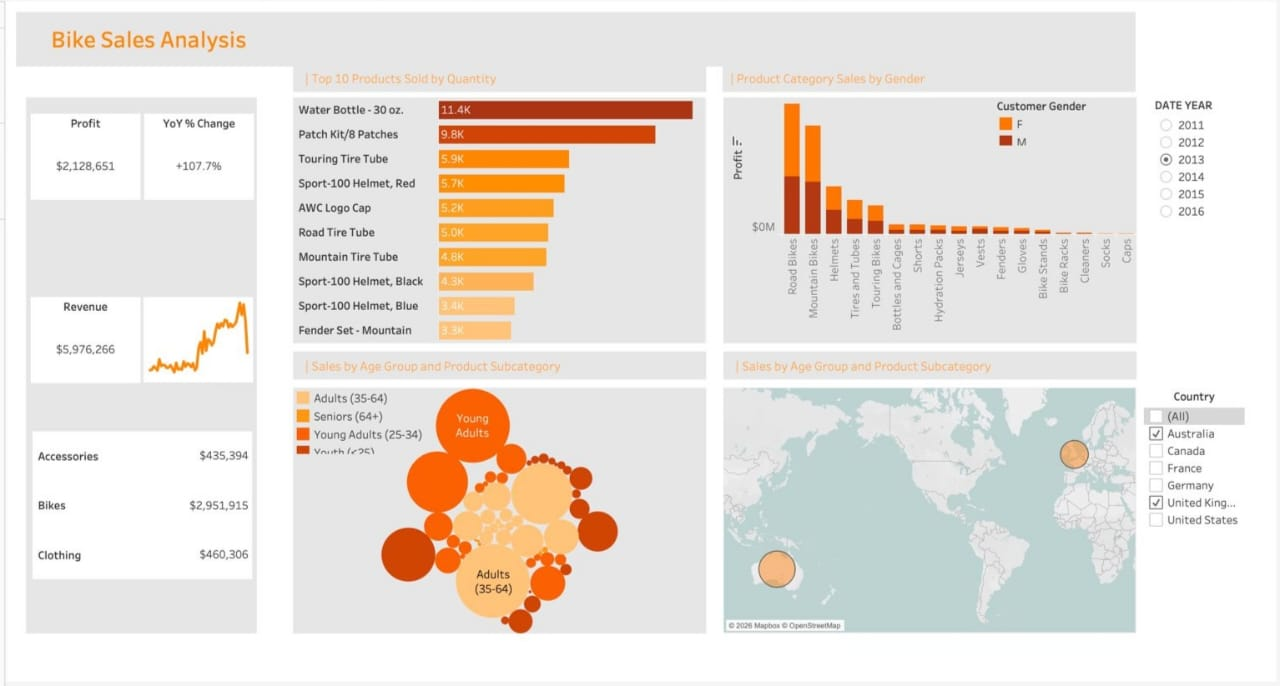

This screenshot's page, from the dashboard's own definition file:
{"tool":"tableau","page":{"name":"Sales Dashboard","canvas":[1400,750],"ordinal":0},"visuals":[{"type":"title","box":[8,8,1241,68]},{"type":"text","box":[317.3,68.7,455.3,31.6]},{"type":"text","box":[789.6,68.7,455.3,31.6]},{"type":"worksheet","title":"Top 10 Products","mark":"Bar","rows":["Product"],"box":[317.3,105.7,455.3,271.1]},{"type":"worksheet","title":"Sub Category Bar Chart ","mark":"Automatic","rows":["Profit"],"cols":["Sub_Category"],"box":[790.6,105.7,455.3,271.1]},{"type":"parameter","param":"[Parameters].[Parameter 1]","box":[1266,105.7,120.9,190.7]},{"type":"legend","title":"Sub Category Bar Chart ","param":"[federated.1uhaebu05e61gt1ad8c5h1yjvo3l].[none:Customer_Gender:nk]","box":[1091.8,106.6,140,52.4]},{"type":"worksheet","title":"Profit Card","mark":"Automatic","cols":["Calculation_0452956817235969"],"box":[28.2,123.8,120.9,94.9]},{"type":"worksheet","title":"YoY %change","mark":"Automatic","cols":["Calculation_0452956822155273"],"box":[153.1,123.8,120.9,94.9]},{"type":"worksheet","title":"Revenue Card","mark":"Automatic","cols":["Calculation_0452956823531530"],"box":[28.2,326.2,120.9,94.9]},{"type":"worksheet","title":"Revenue Line Chart","mark":"Automatic","rows":["Revenue"],"cols":["Date"],"box":[152.1,326.2,120.9,94.9]},{"type":"text","box":[317.3,385.8,455.3,31.6]},{"type":"text","box":[790.6,385.8,455.3,31.6]},{"type":"worksheet","title":"Age Group Bubble Chart","mark":"Circle","box":[317.3,425.6,455.3,271.1]},{"type":"worksheet","title":"Map","mark":"Automatic","box":[790.6,425.6,455.3,271.1]},{"type":"legend","title":"Age Group Bubble Chart","param":"[federated.1uhaebu05e61gt1ad8c5h1yjvo3l].[none:Age_Group:nk]","box":[318.3,426.5,168.2,72.3]},{"type":"filter","title":"Age Group Bubble Chart","param":"[federated.1uhaebu05e61gt1ad8c5h1yjvo3l].[none:Country:nk]","box":[1254,426.5,110.8,164.5]},{"type":"worksheet","title":"Cost Card","mark":"Automatic","rows":["Product_Category"],"box":[30.2,474.4,241.7,162.7]}]}

Visuals, with their boxes in screenshot pixels (x1, y1, x2, y2), scaled from the page's 1400x750 canvas onto the 1280x686 screenshot:
title: detection(7, 7, 1142, 70)
text: detection(290, 63, 706, 92)
text: detection(722, 63, 1138, 92)
"Top 10 Products" worksheet (Bar marks): detection(290, 97, 706, 345)
"Sub Category Bar Chart " worksheet: detection(723, 97, 1139, 345)
parameter: detection(1157, 97, 1268, 271)
"Sub Category Bar Chart " legend: detection(998, 98, 1126, 145)
"Profit Card" worksheet: detection(26, 113, 136, 200)
"YoY %change" worksheet: detection(140, 113, 251, 200)
"Revenue Card" worksheet: detection(26, 298, 136, 385)
"Revenue Line Chart" worksheet: detection(139, 298, 250, 385)
text: detection(290, 353, 706, 382)
text: detection(723, 353, 1139, 382)
"Age Group Bubble Chart" worksheet (Circle marks): detection(290, 389, 706, 637)
"Map" worksheet: detection(723, 389, 1139, 637)
"Age Group Bubble Chart" legend: detection(291, 390, 445, 456)
"Age Group Bubble Chart" filter: detection(1147, 390, 1248, 541)
"Cost Card" worksheet: detection(28, 434, 249, 583)
